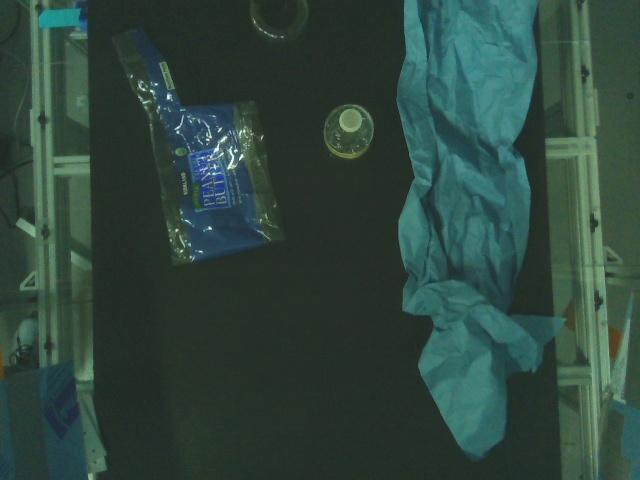paper: (395, 1, 569, 466)
plastic: (109, 25, 291, 265), (321, 101, 377, 163), (245, 0, 311, 42)
